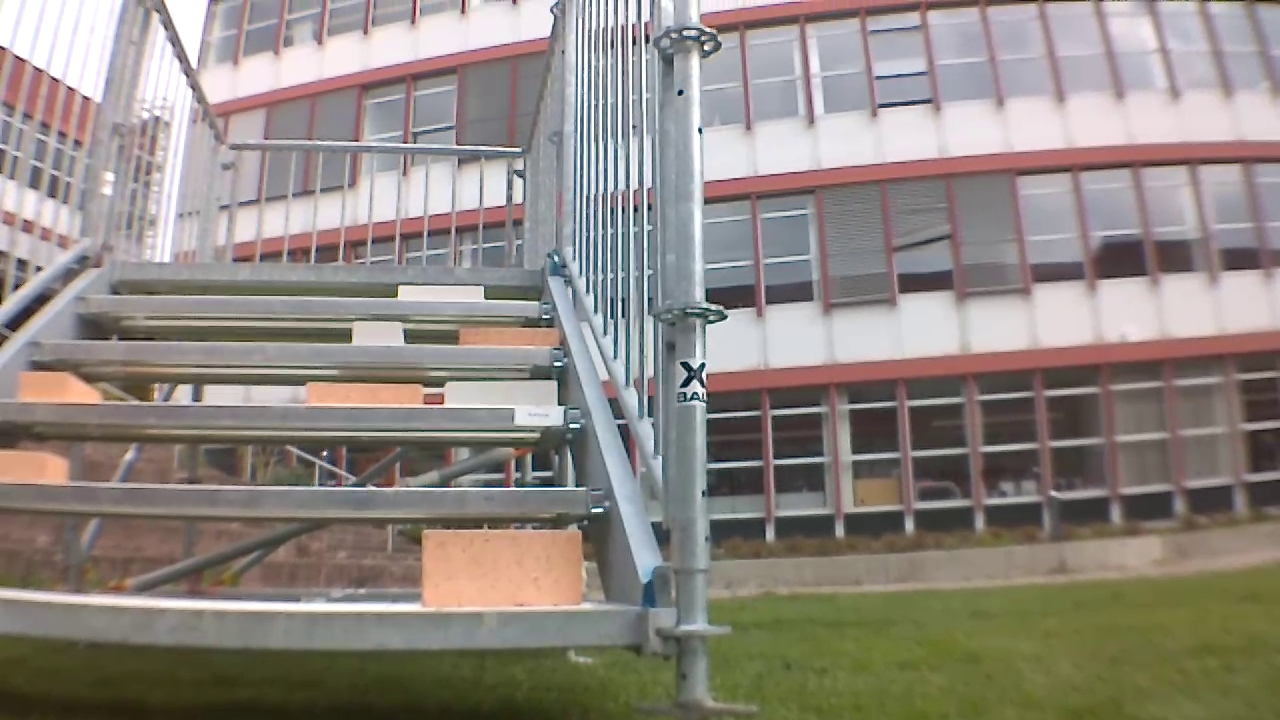brick: (421, 528, 583, 606), (304, 382, 423, 405), (0, 451, 77, 486), (15, 370, 101, 401), (450, 384, 562, 400), (452, 330, 559, 346), (403, 284, 483, 302), (348, 323, 406, 345)
edge: (0, 594, 647, 646), (0, 481, 613, 515), (32, 341, 567, 372), (0, 407, 580, 435), (108, 257, 541, 284), (73, 298, 547, 318)
stairs: (0, 0, 700, 709)
steps: (0, 258, 679, 664)
